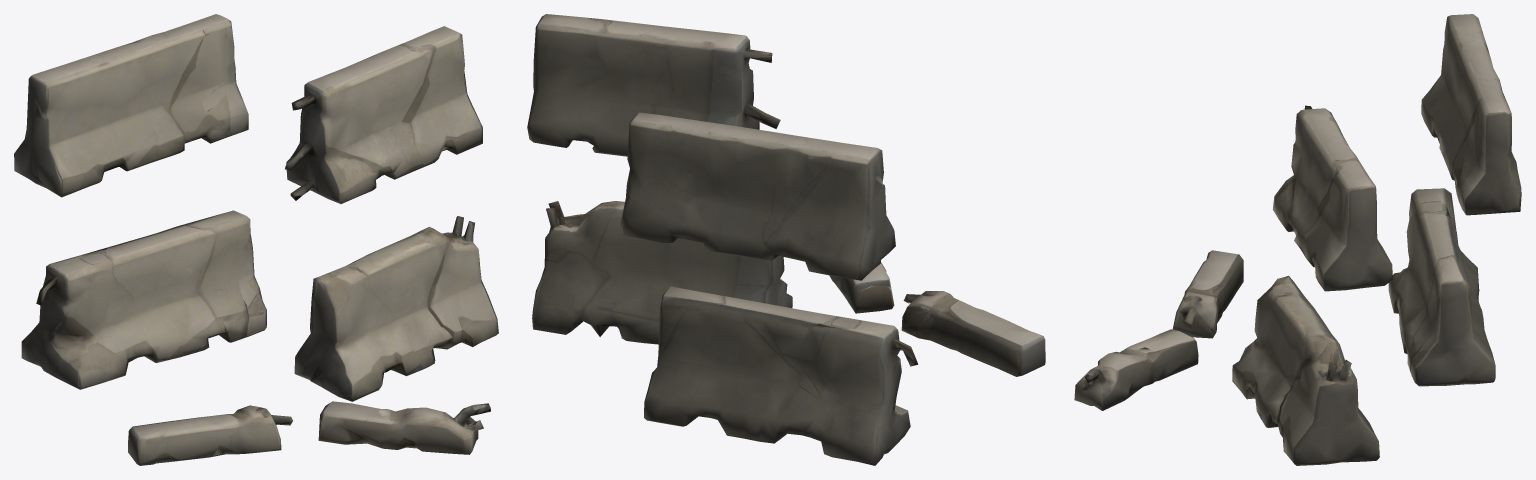
Rendered from concrete_barriers.glb.
3 renders of one model, left to right at view 1: azimuth 30°, elevation 25°; view 2: azimuth 150°, elevation 25°; view 3: azimuth 270°, elevation 25°, orthographic. The views are drawn at different scales.
Bounding box in the file's own units: 1.91 × 1.3 × 1.89.
1 material, 1 textured.
